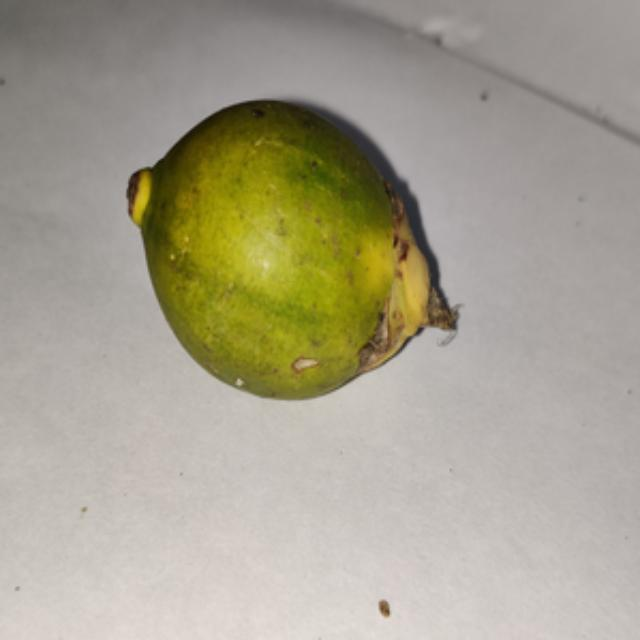damaged: (126, 101, 458, 405)
